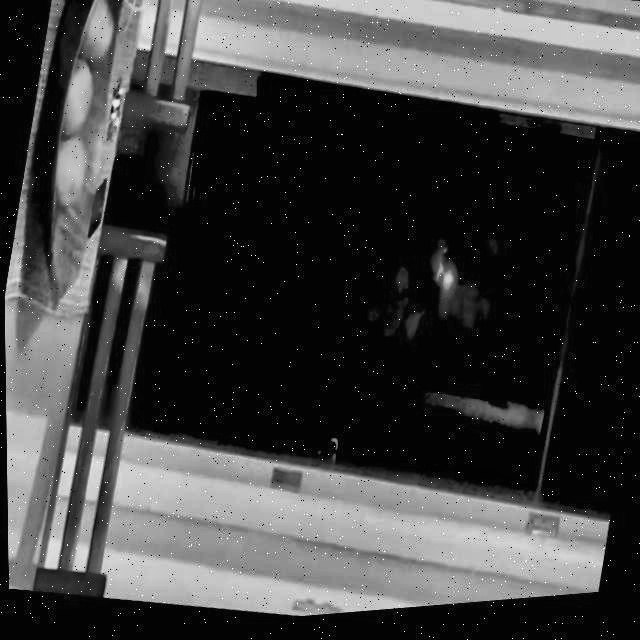Smoke: (437, 272, 459, 302)
